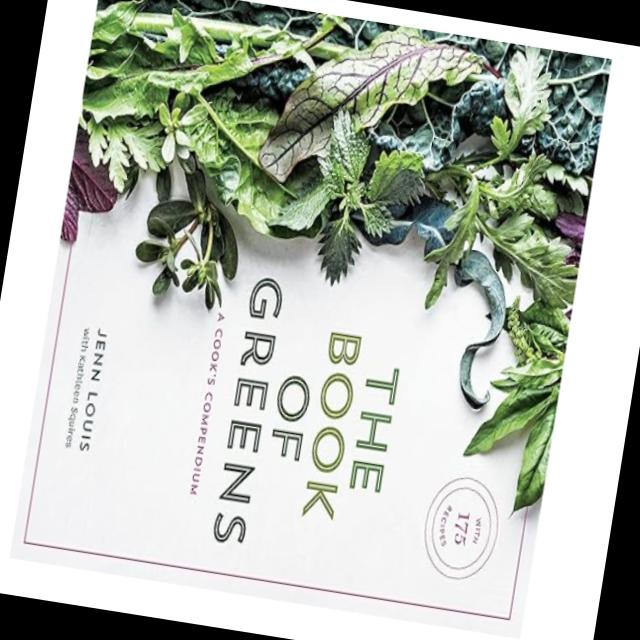titles-or-authors: (204, 264, 424, 582), (68, 312, 120, 468)
